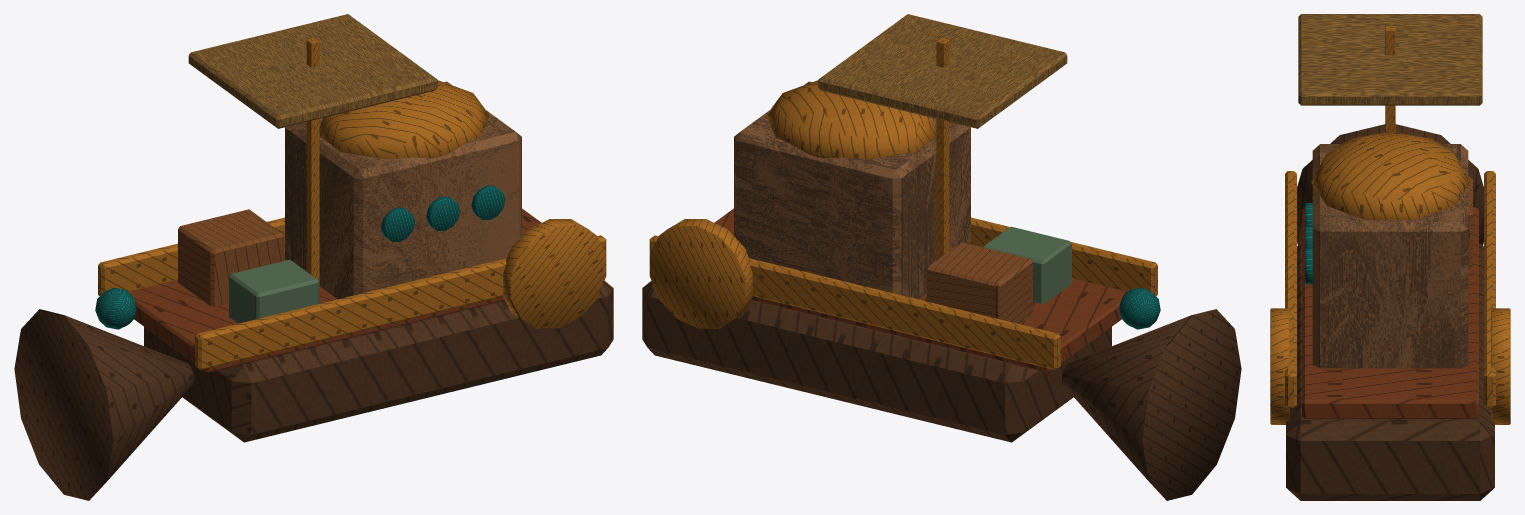
File: canal-packet-boat.glb
The picture shows the model from 3 angles, left to right: view 1: azimuth 30°, elevation 25°; view 2: azimuth 150°, elevation 25°; view 3: azimuth 270°, elevation 25°; orthographic projection. The views are drawn at different scales.
Visible parts, largest first — view 1: canal-packet-boat; view 2: canal-packet-boat; view 3: canal-packet-boat.
Part boxes in pixels (x1,y1,x2,y2): canal-packet-boat: [14, 14, 613, 500]; canal-packet-boat: [642, 14, 1241, 500]; canal-packet-boat: [1270, 14, 1510, 500].
Size of the model in its own units: 4.93 by 3.67 by 1.98.
1 material, 1 textured.
